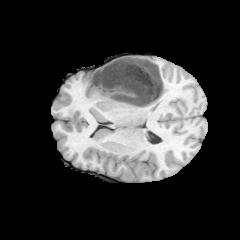glioma: (90, 56, 169, 110)
